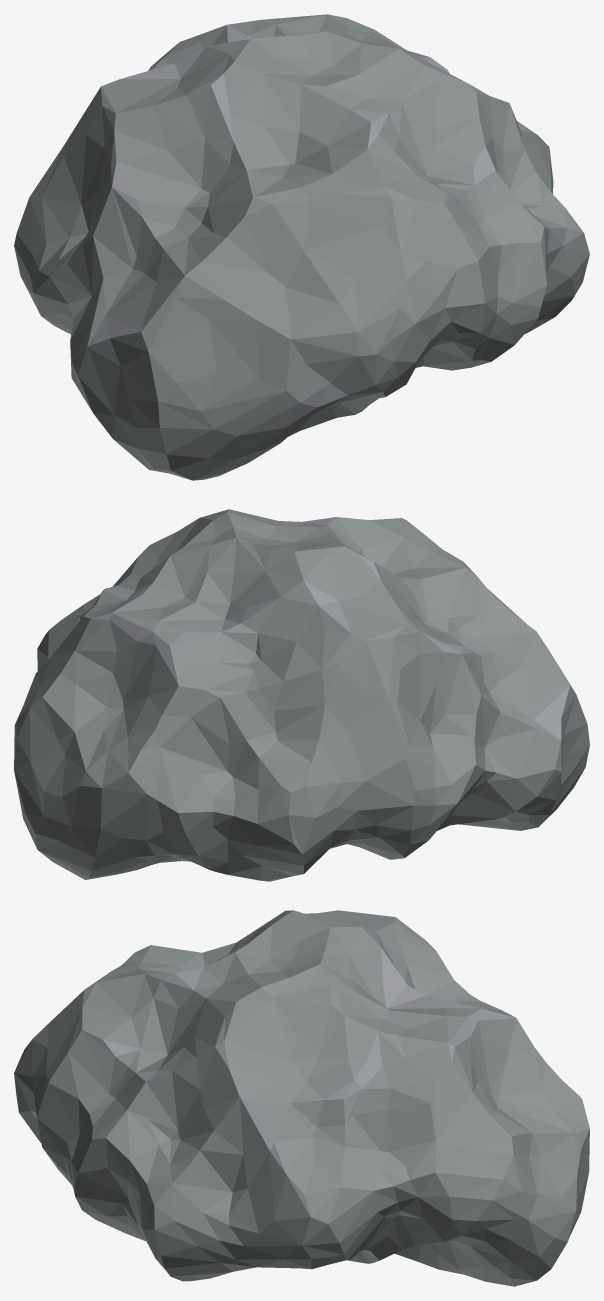
File: mesh_rock_big_02.fbx
3 renders of one model, top to bottom at view 1: azimuth 30°, elevation 25°; view 2: azimuth 150°, elevation 25°; view 3: azimuth 270°, elevation 25°, orthographic. The views are drawn at different scales.
Parts seen in each view (by area): view 1: mesh_rock_big_02_LOD0; view 2: mesh_rock_big_02_LOD0; view 3: mesh_rock_big_02_LOD0.
Boxes of the visible parts, left/top/right/bottom form: mesh_rock_big_02_LOD0: left=14, top=14, right=589, bottom=480; mesh_rock_big_02_LOD0: left=14, top=509, right=589, bottom=881; mesh_rock_big_02_LOD0: left=14, top=910, right=589, bottom=1286.
Size of what is drawn, in the model's own units: 3.53 by 2.2 by 3.61.
